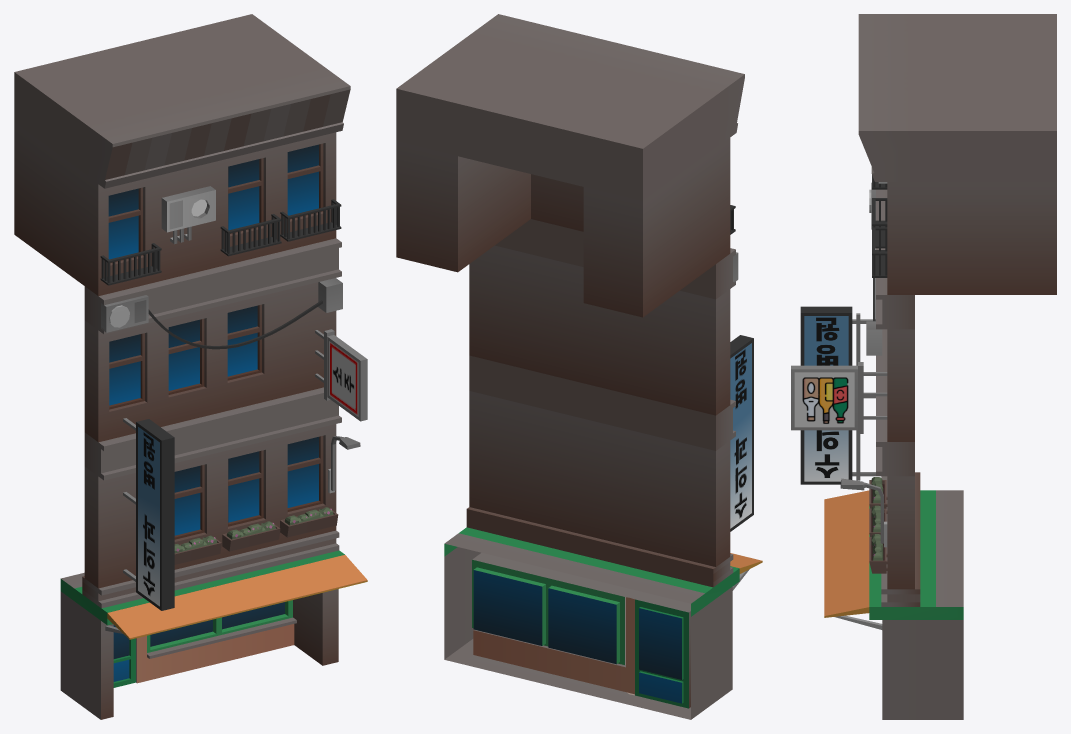
The model's file is B02_Facade_01_B.fbx.
3 views of the same model, side by side, from view 1: azimuth 30°, elevation 25°; view 2: azimuth 150°, elevation 25°; view 3: azimuth 270°, elevation 25° (orthographic). The views are drawn at different scales.
Parts seen in each view (by area): view 1: B02_Facade_01_B; view 2: B02_Facade_01_B; view 3: B02_Facade_01_B.
Part boxes in pixels (x1,y1,x2,y2): B02_Facade_01_B: [14, 14, 367, 719]; B02_Facade_01_B: [396, 14, 762, 719]; B02_Facade_01_B: [791, 14, 1056, 719].
Bounding box in the file's own units: 1005 × 2349 × 960.
